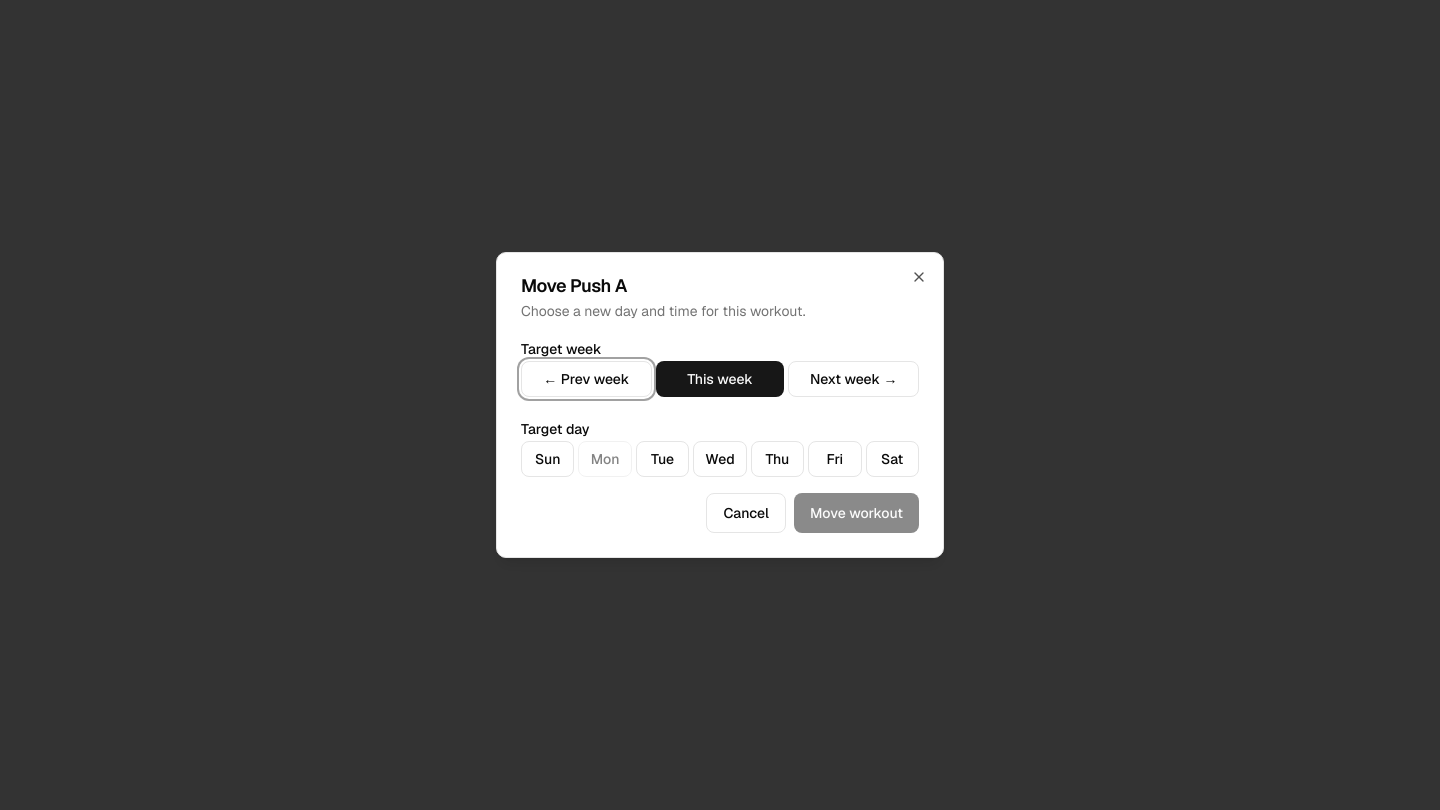
Scenario: MoveWorkoutModal — characterization (post-T202) › week offset toggle › source day is not disabled when week offset is non-zero
expect the button "Mon" is disabled: met, box [578,441,632,477]
Click the button "Next week →": (854, 379) [788,361,919,397]
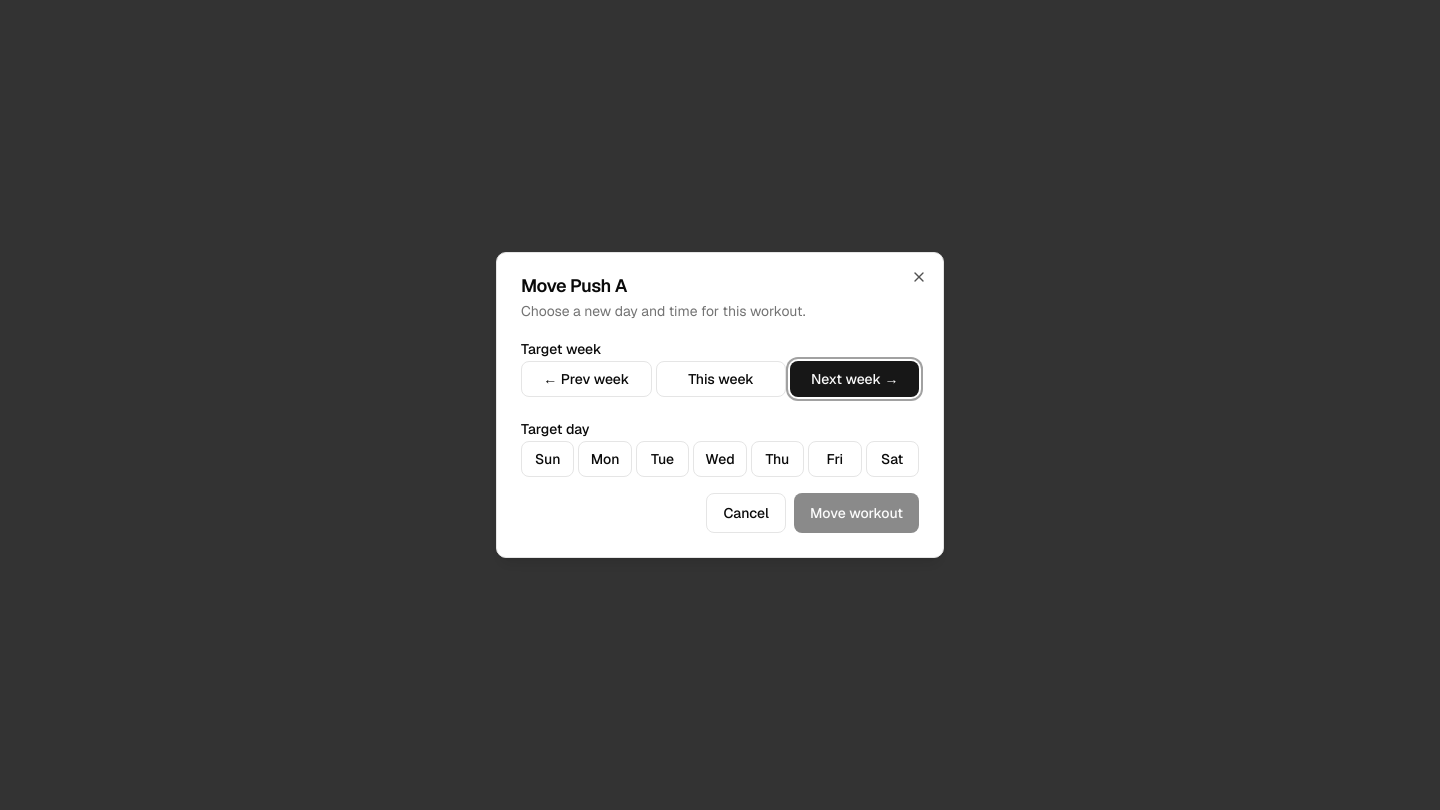
expect the button "Mon" is enabled: met, box [578,441,632,477]
